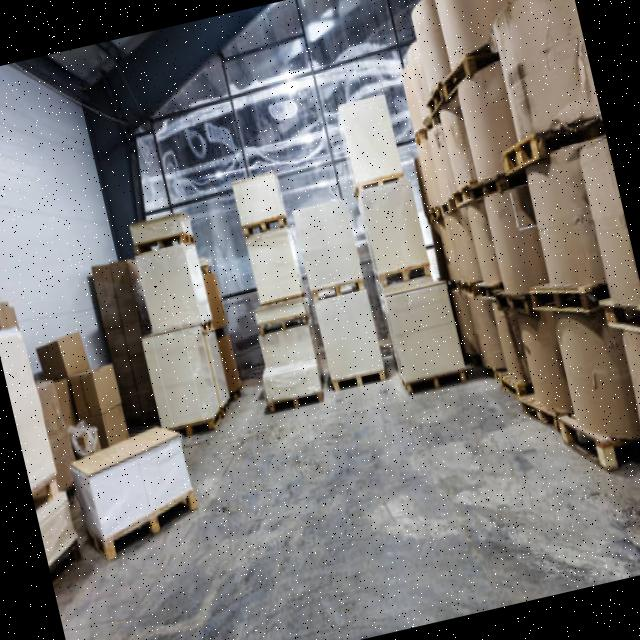Wooden-Pallets: (98, 484, 203, 570), (554, 413, 619, 480), (493, 126, 553, 189), (398, 356, 474, 404), (431, 42, 483, 111), (130, 222, 200, 270), (525, 272, 596, 319), (304, 266, 370, 312), (327, 365, 390, 410), (262, 382, 326, 421), (374, 259, 434, 296), (236, 207, 289, 242), (352, 164, 406, 198), (252, 310, 306, 340), (448, 177, 479, 219)
